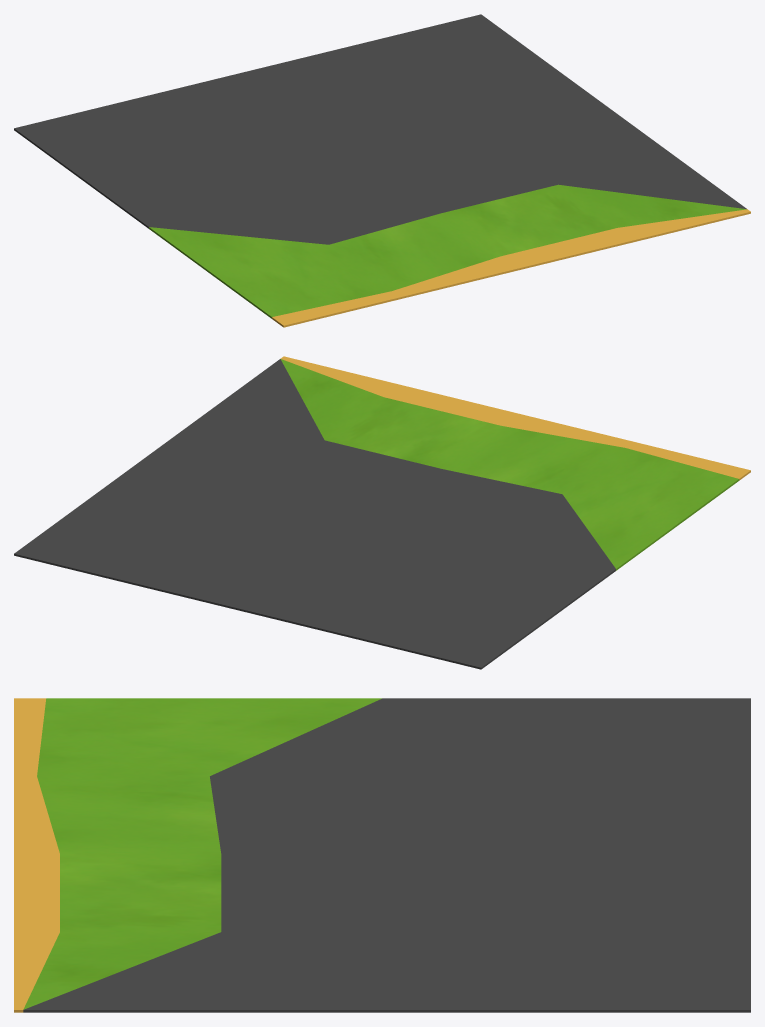
The picture shows the model from 3 angles, top to bottom: view 1: azimuth 30°, elevation 25°; view 2: azimuth 150°, elevation 25°; view 3: azimuth 270°, elevation 25°; orthographic projection. The views are drawn at different scales.
Visible parts, largest first — view 1: 01_street_base_plate-COL.042; view 2: 01_street_base_plate-COL.042; view 3: 01_street_base_plate-COL.042.
Boxes of the visible parts, x1,y1,x2,y2 form: 01_street_base_plate-COL.042: [14, 14, 750, 327]; 01_street_base_plate-COL.042: [14, 356, 750, 669]; 01_street_base_plate-COL.042: [14, 698, 750, 1012].
Size of the model in its own units: 256 by 1 by 256.
Materials: 3 (1 with a texture image).
